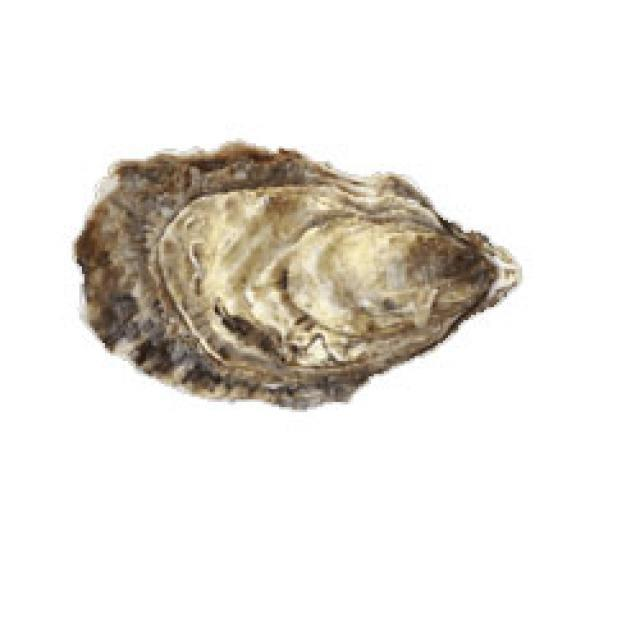Oyster- Indeterminate: (63, 130, 538, 423)
